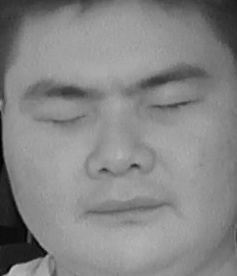blink: (36, 100, 87, 137), (150, 88, 198, 120)
mouth: (83, 186, 177, 230)
